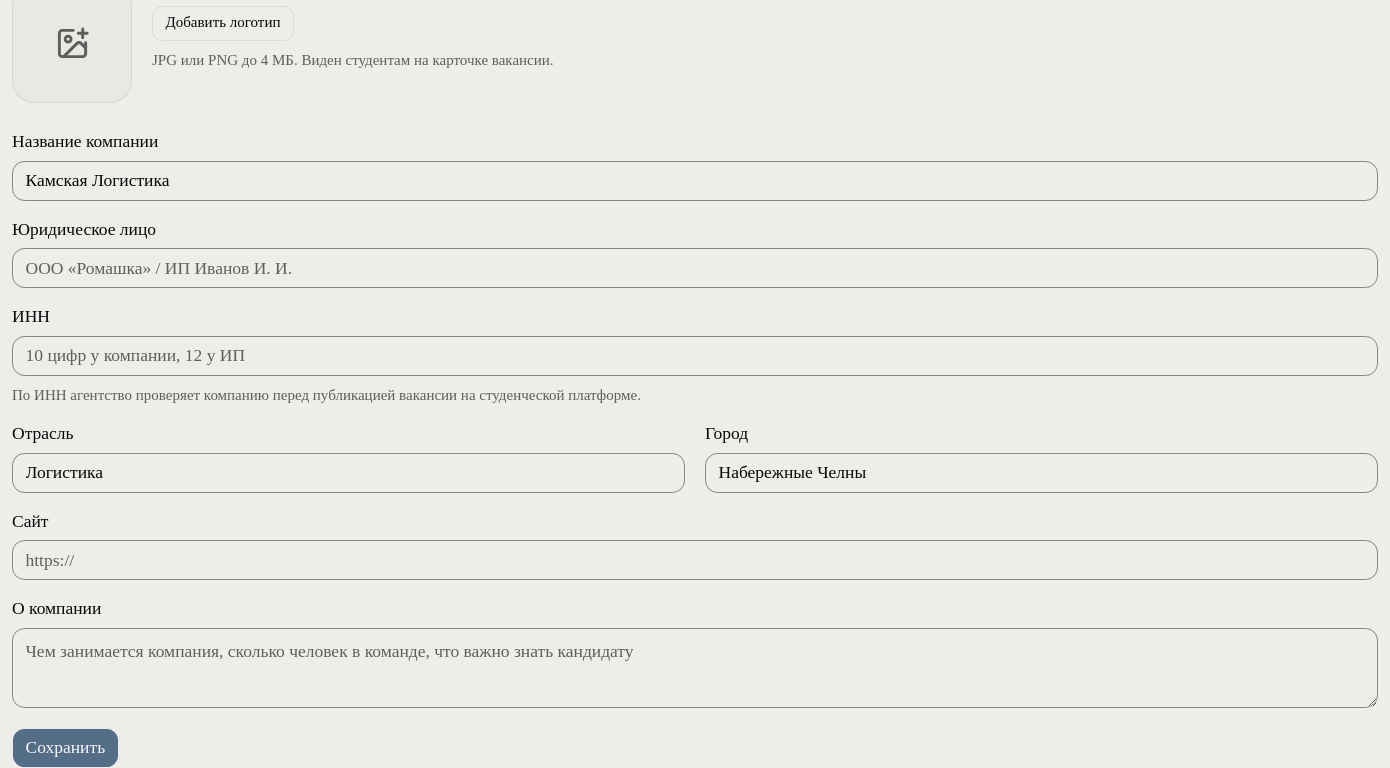
Scenario: профиль компании › успешное сохранение показывает подтверждение
(page scrolled)
Click the button "Сохранить": [65, 748] box [12,728,119,767]
(page scrolled)
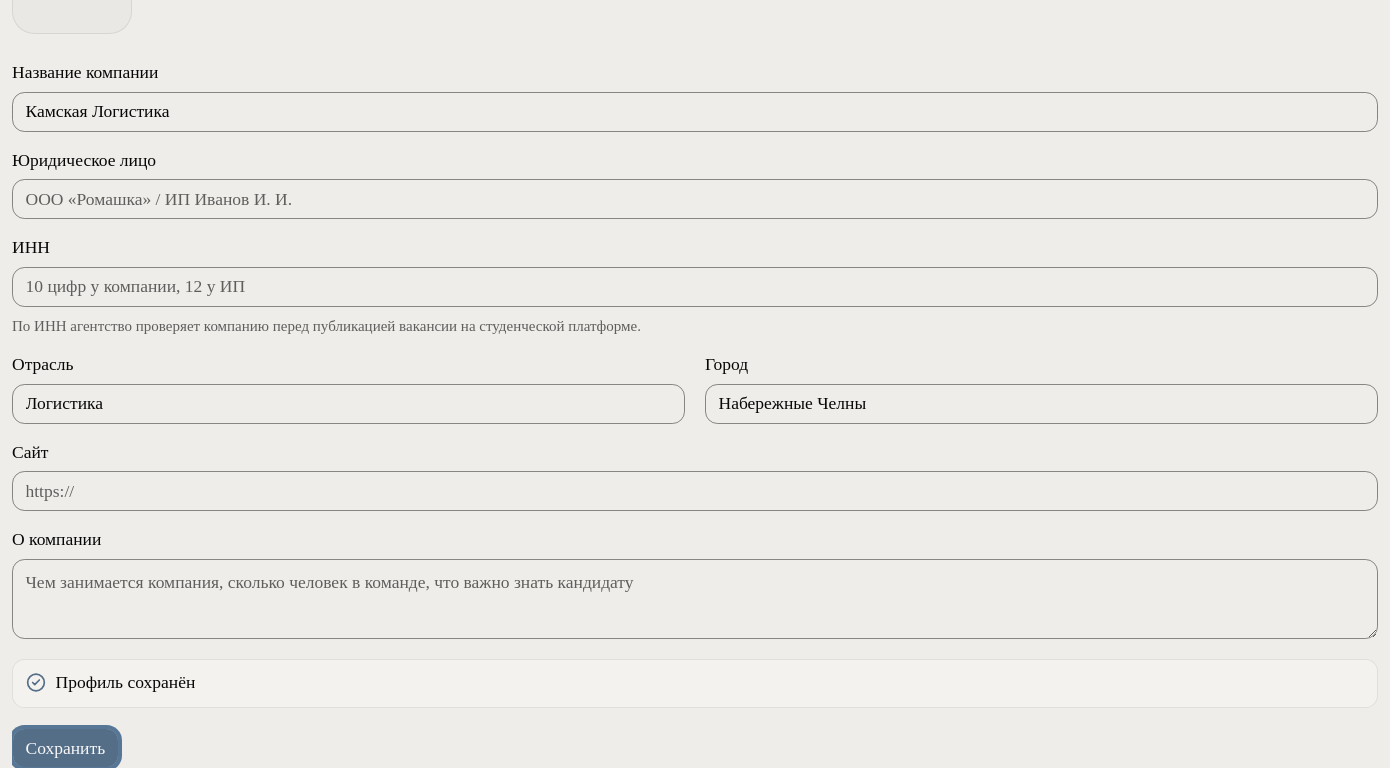
Now the text "Профиль сохранён" is shown, box [56,672,195,692]
